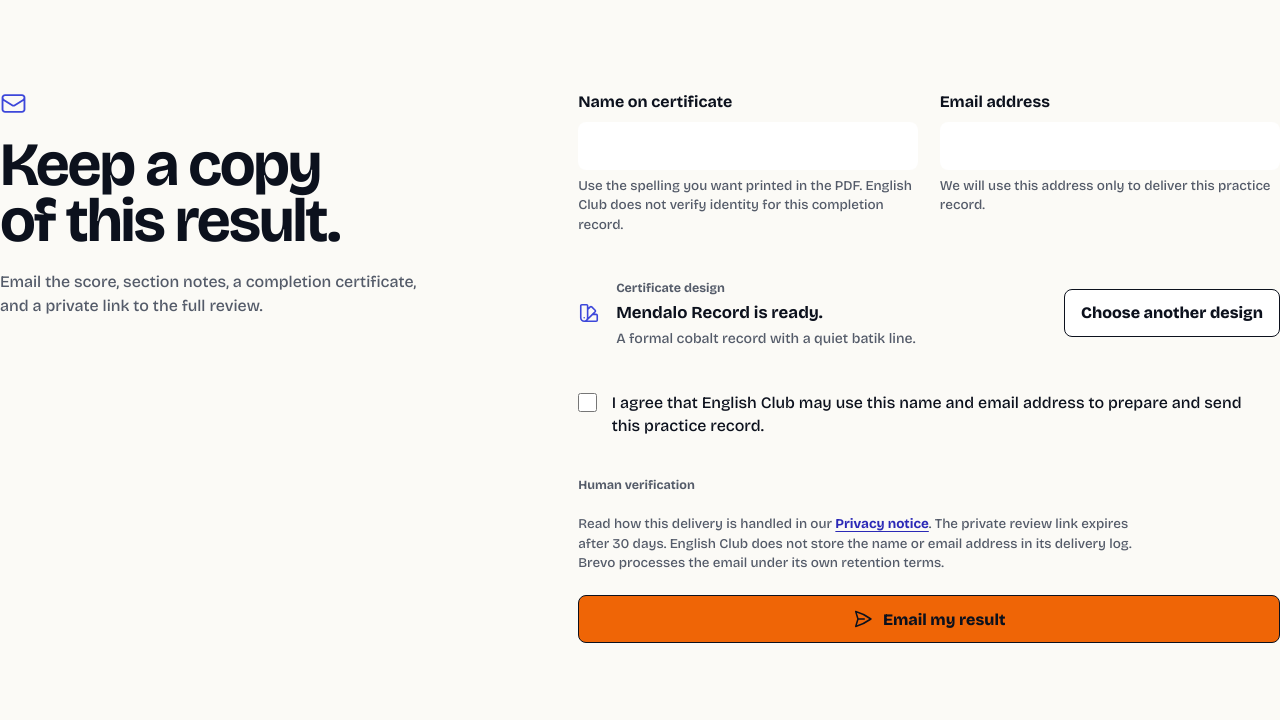
Test: ResultEmailDelivery › cancels the chooser without changing the active design
The image size is (1280, 720).
Click the button "Choose another design".
click(1172, 313)  # box [1064, 289, 1279, 337]
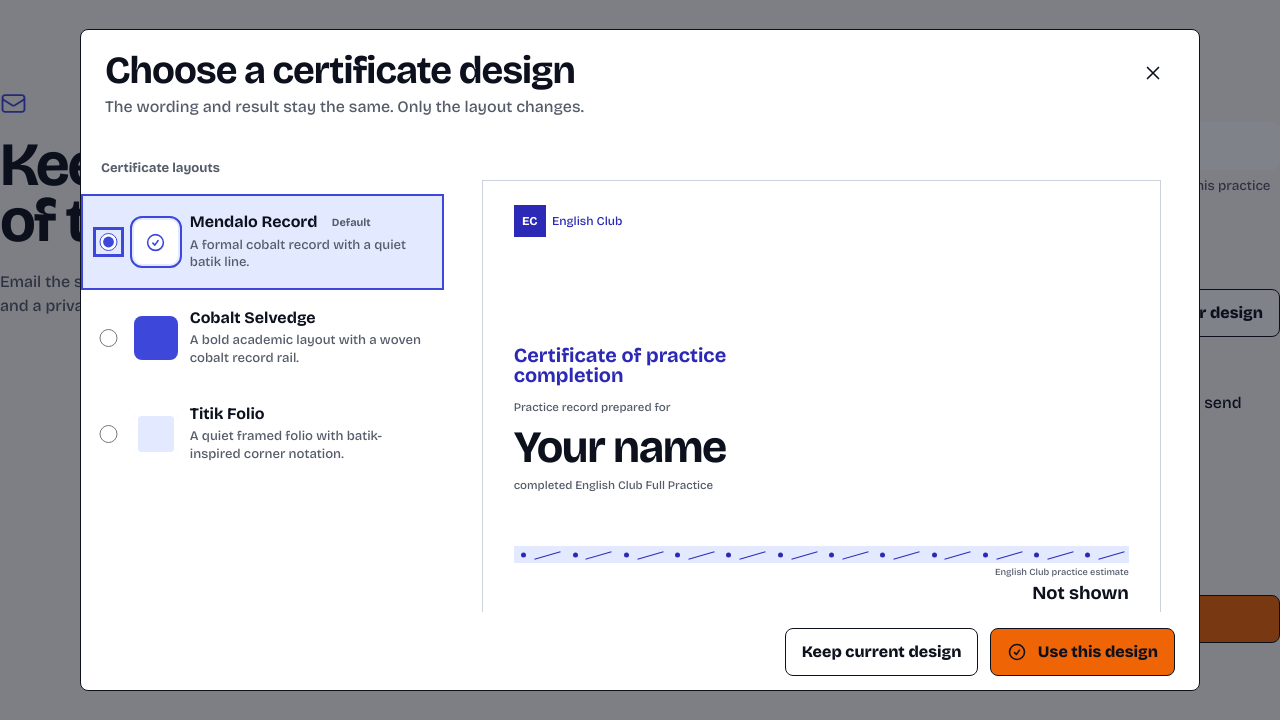
Click the radio button labelled "Titik Folio".
click(109, 434)  # box [99, 425, 118, 443]
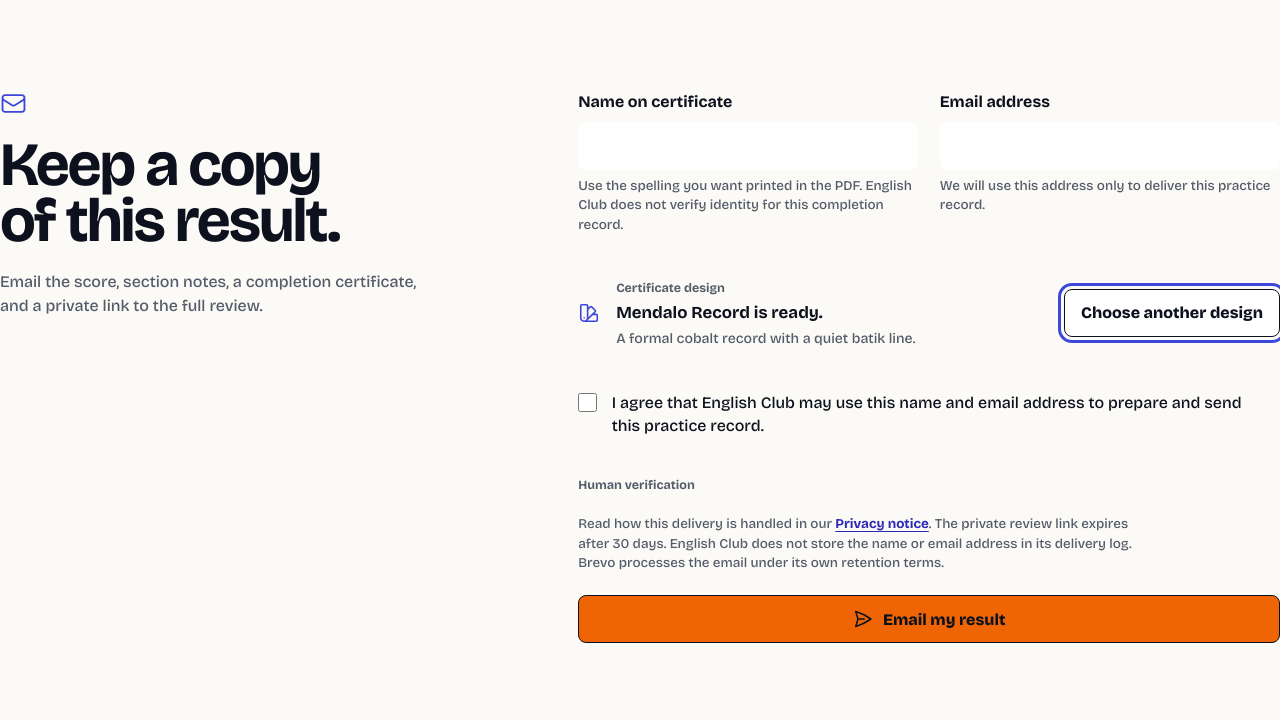
Expected: the text "Mendalo Record is ready." is shown, [616, 302, 823, 323]
Expected: the dialog is gone
